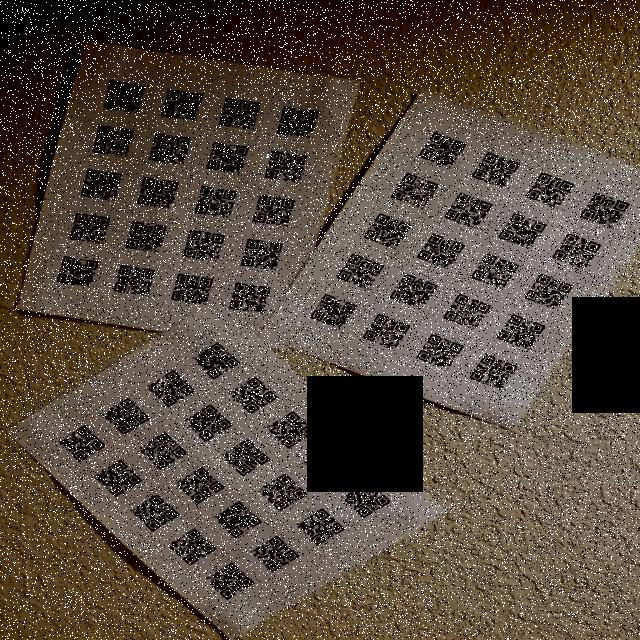QR_CODE: (96, 393, 152, 438), (550, 230, 609, 272), (576, 188, 632, 232), (142, 365, 198, 409), (91, 455, 145, 500), (296, 506, 352, 549), (385, 169, 443, 210), (492, 310, 550, 351), (94, 72, 148, 116), (415, 128, 469, 172), (522, 168, 576, 212), (304, 288, 358, 332), (220, 434, 274, 478), (467, 351, 522, 394), (255, 470, 311, 512), (126, 492, 182, 534), (205, 561, 259, 604), (440, 191, 499, 230), (269, 100, 325, 141), (154, 84, 206, 128), (388, 268, 440, 312), (440, 290, 494, 332), (300, 444, 355, 485), (340, 479, 395, 520), (522, 272, 578, 312), (332, 252, 388, 292), (248, 534, 304, 574), (54, 424, 110, 464), (166, 528, 222, 568), (496, 210, 550, 251), (226, 375, 280, 416), (181, 404, 235, 445), (136, 430, 190, 471), (210, 499, 264, 540), (358, 212, 413, 252), (413, 230, 468, 270), (188, 181, 242, 221), (468, 251, 522, 291), (262, 409, 316, 449), (172, 465, 226, 505), (190, 340, 242, 381), (70, 165, 126, 203), (258, 146, 312, 185), (468, 151, 522, 190), (210, 94, 265, 132), (248, 192, 302, 230), (412, 332, 466, 370), (85, 120, 136, 160), (361, 312, 411, 352), (234, 236, 286, 274), (48, 254, 102, 290), (119, 217, 170, 255), (64, 208, 112, 248), (226, 280, 274, 319), (178, 226, 226, 264), (200, 140, 252, 175), (142, 132, 192, 168), (108, 262, 158, 298), (134, 175, 180, 213), (166, 272, 214, 308)
